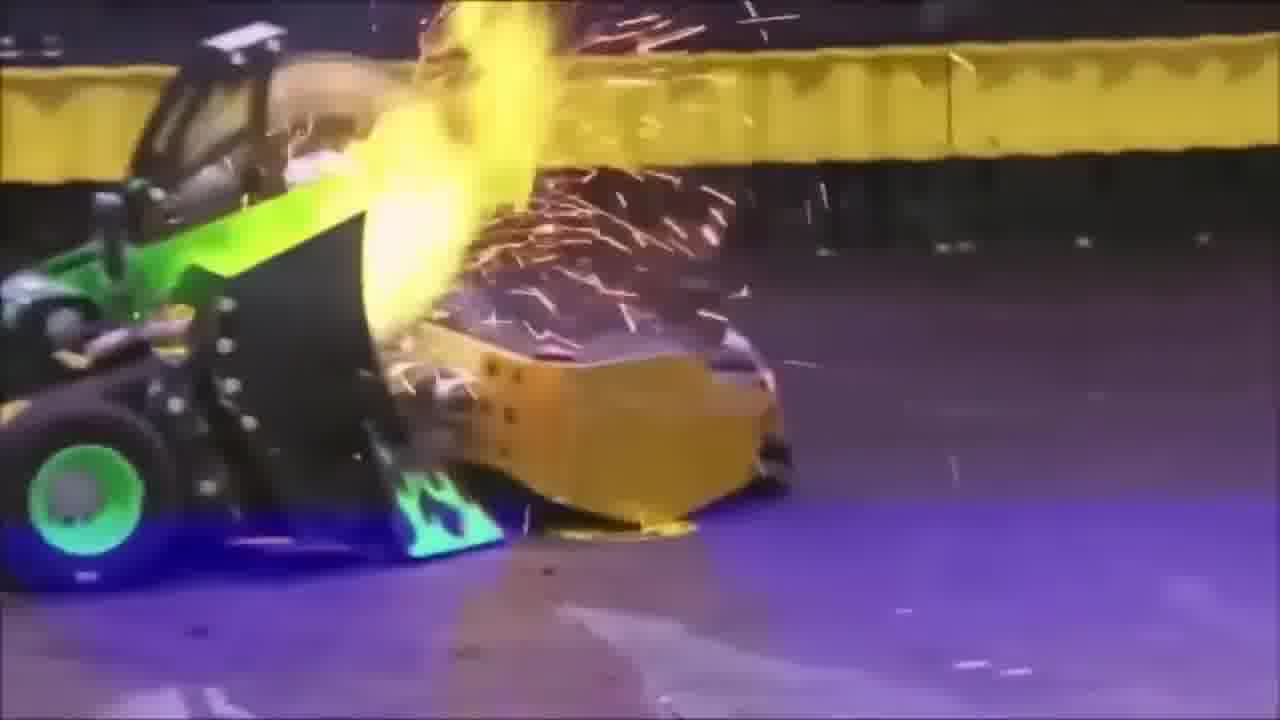combatbot: (0, 152, 503, 599), (391, 229, 796, 540)
